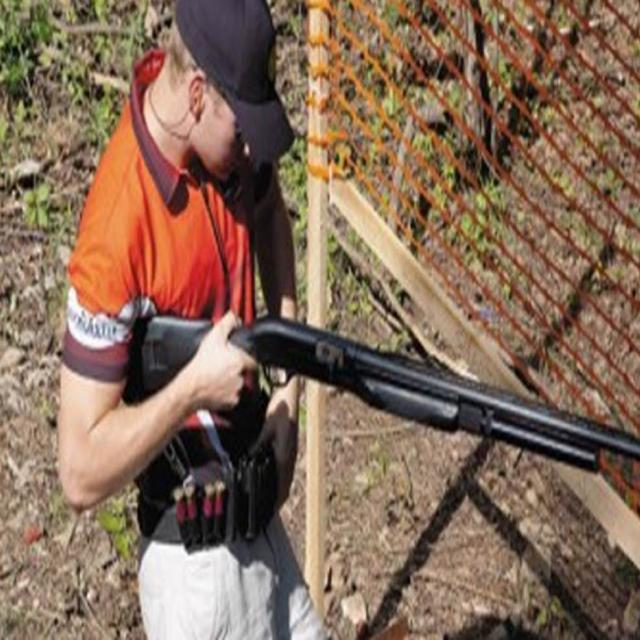ShotGun: (144, 315, 640, 473)
